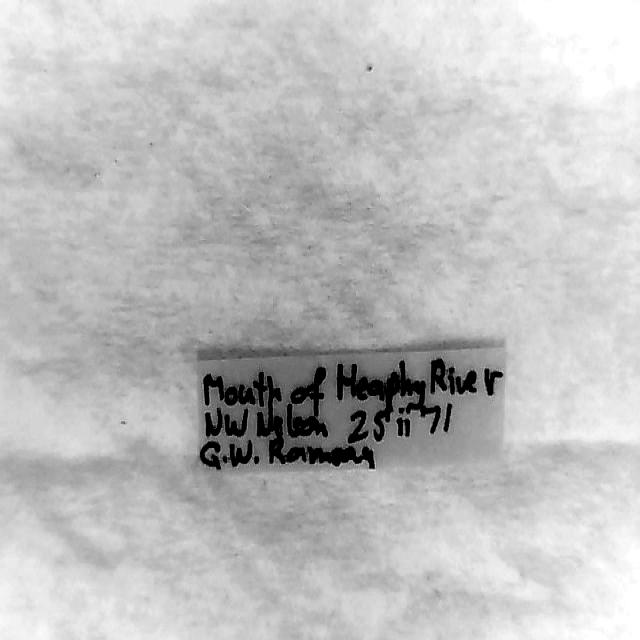hand_label: (198, 347, 505, 472)
